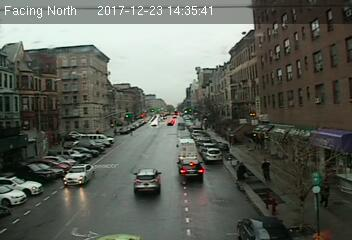car: (132, 168, 162, 195), (177, 159, 205, 183), (202, 147, 222, 163)
pedestrian: (317, 178, 332, 209), (261, 157, 271, 181)
truck: (176, 138, 198, 160)
